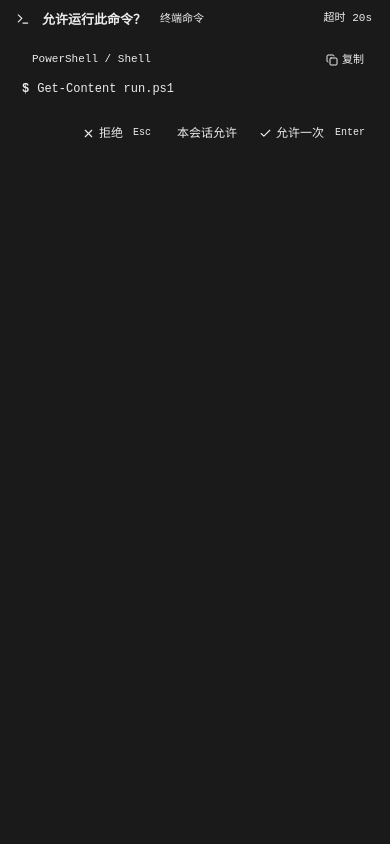
Test: PermissionCard › 提交失败后按钮恢复可用并显示错误提示
Click the button "允许一次 Enter" at (314, 133), box 251,121 -> 378,146
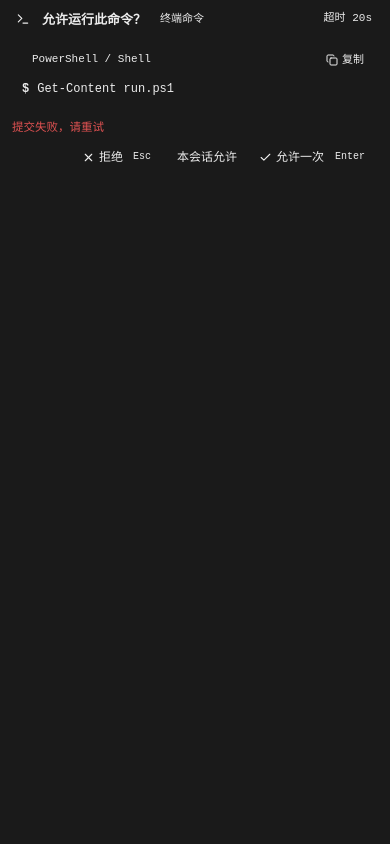
Check: the button "允许一次 Enter" is enabled, box 251,145 -> 378,170
Check: the text "提交失败，请重试" is shown, box 12,120 -> 104,134
